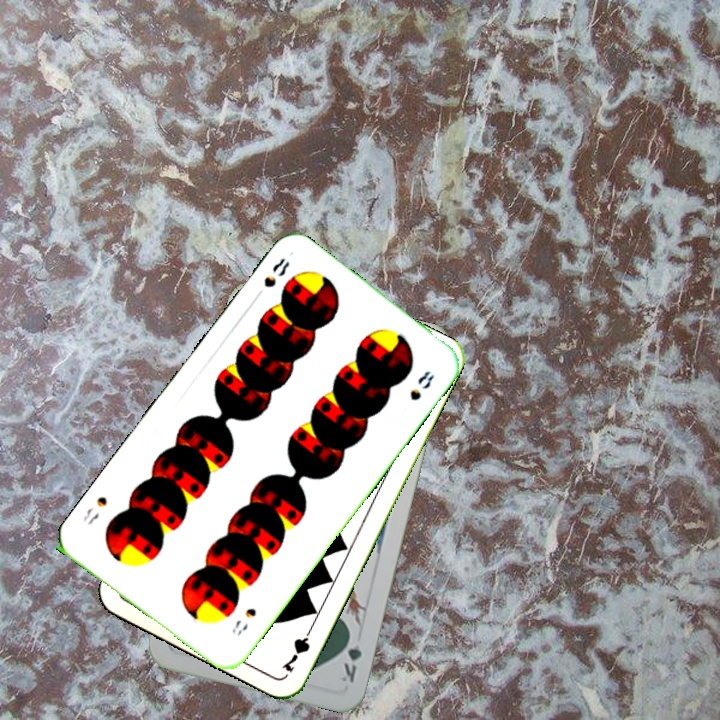G7: (278, 620, 317, 675)
GK: (337, 627, 365, 686)
S8: (259, 253, 293, 291), (227, 604, 259, 639)
